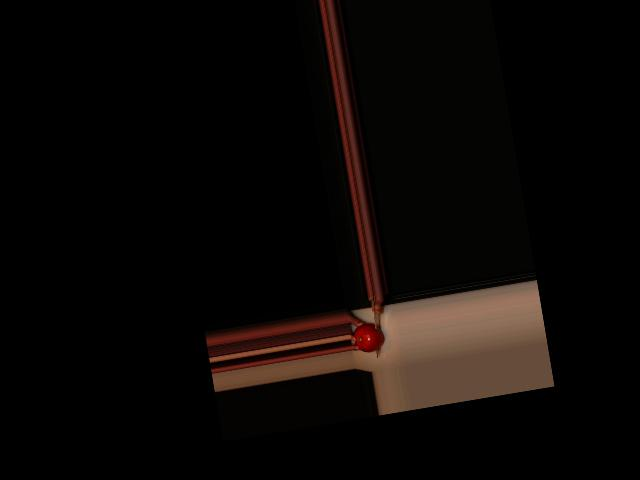tomato: (352, 321, 385, 354)
